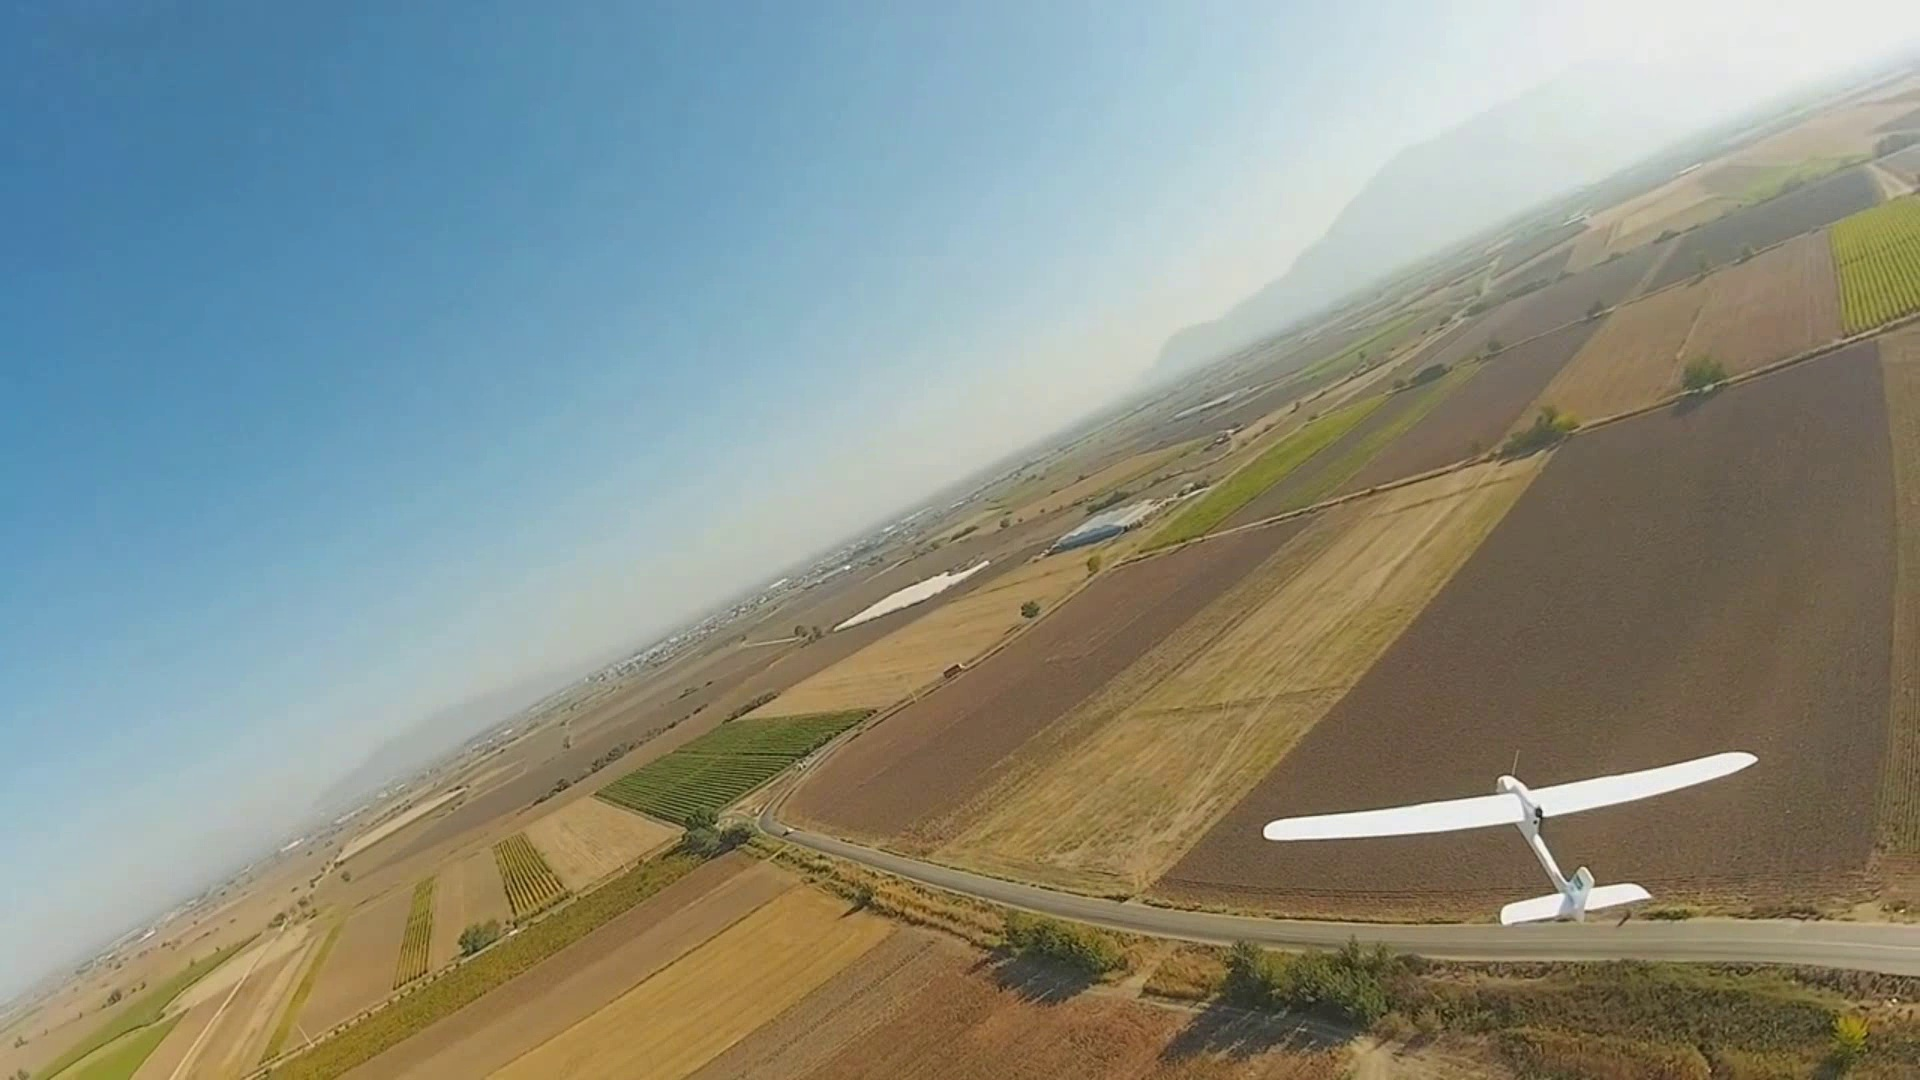airplane: (1258, 754, 1758, 924)
